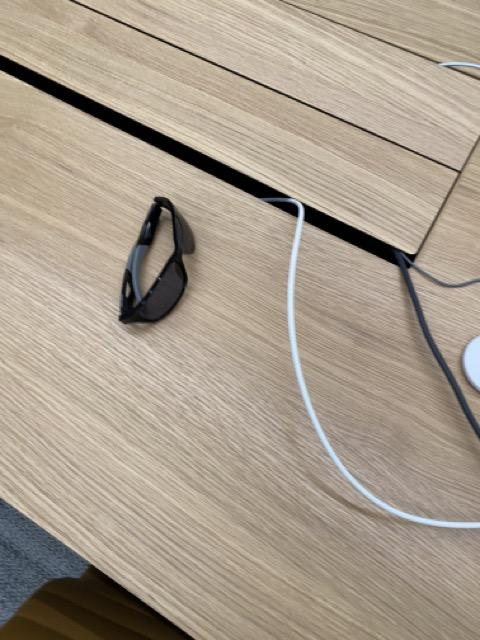Sunglasses: (118, 194, 197, 323)
